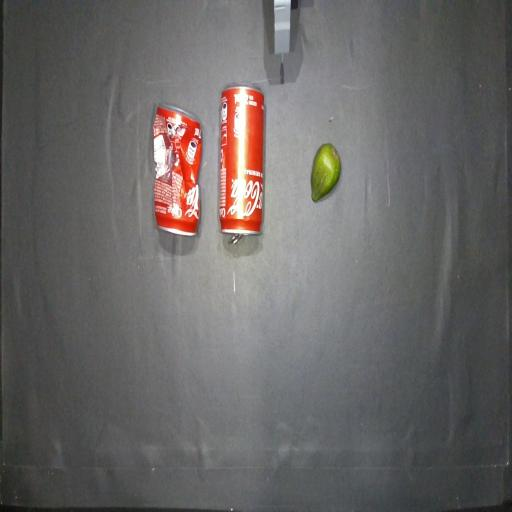higo: (311, 143, 341, 202)
lata: (219, 84, 264, 242)
lata_defectuoso: (153, 102, 202, 235)
